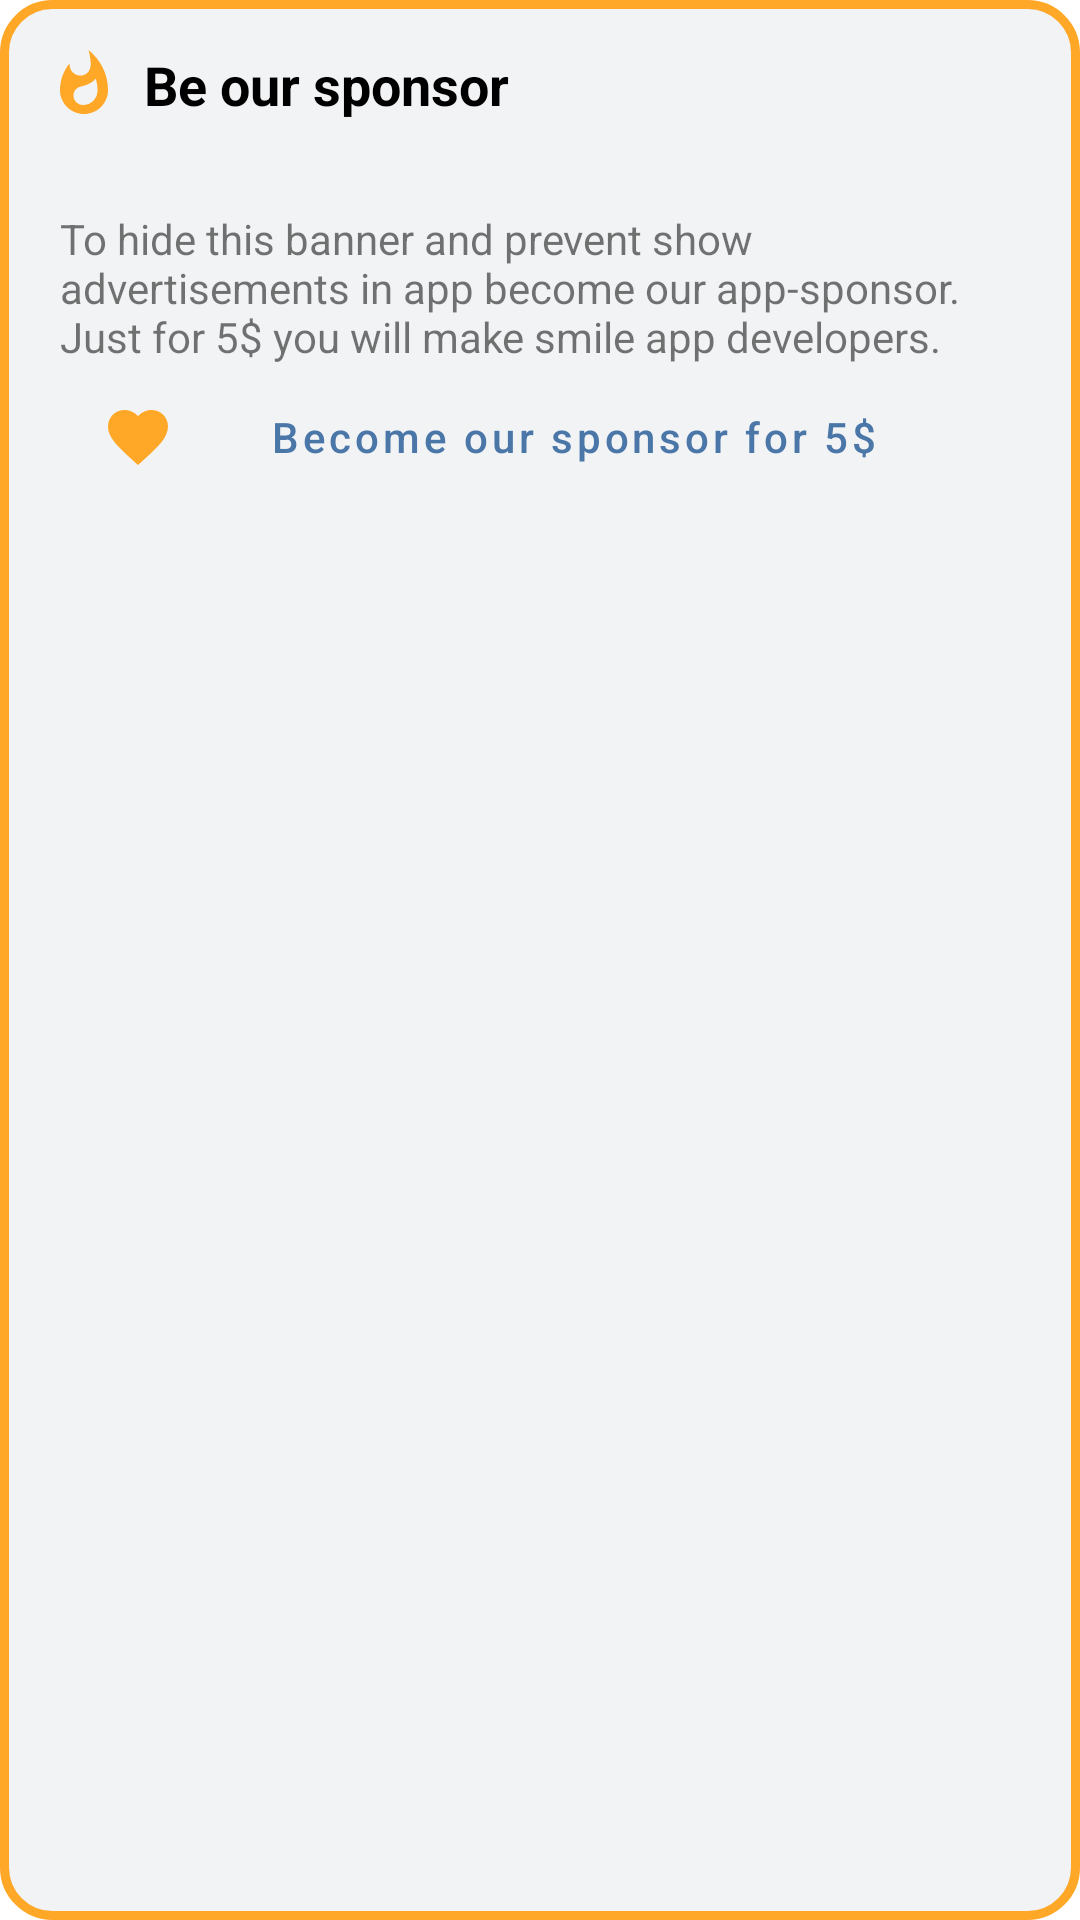

Icon click points for this 1080×1920 phone screenshot, format [x,y]:
whatshot: [84,82]
